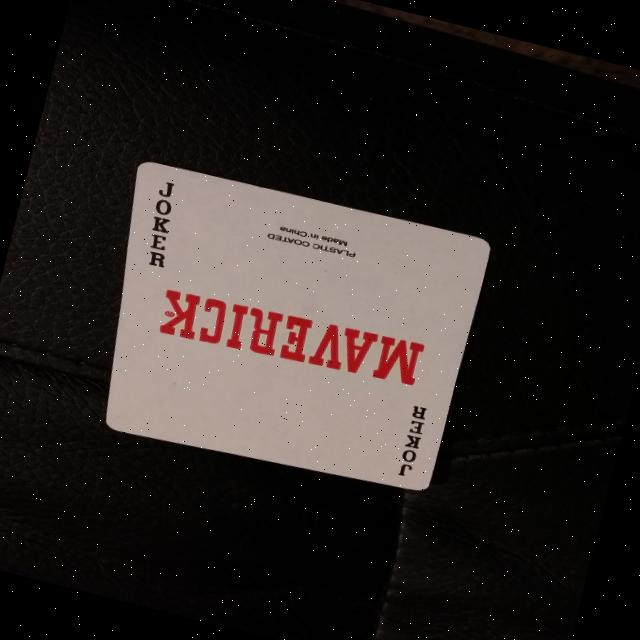J: (130, 174, 193, 275), (388, 400, 438, 483)
